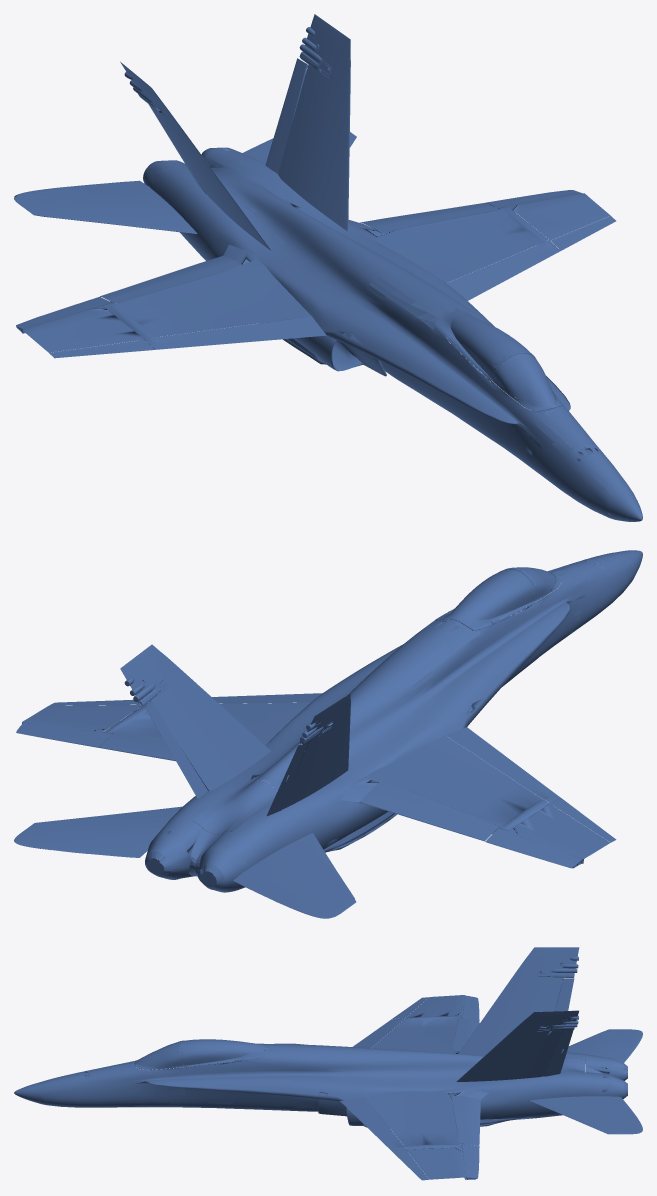
3 views of the same model, one above another, from view 1: azimuth 30°, elevation 25°; view 2: azimuth 150°, elevation 25°; view 3: azimuth 270°, elevation 25° (orthographic). The views are drawn at different scales.
Parts seen in each view (by area): view 1: polySurface3825; view 2: polySurface3825; view 3: polySurface3825.
Part boxes in pixels (x1,y1,x2,y2): polySurface3825: [14, 14, 642, 521]; polySurface3825: [14, 550, 642, 918]; polySurface3825: [14, 947, 642, 1180].
Size of the model in its own units: 3.56 by 1.21 by 5.18.
